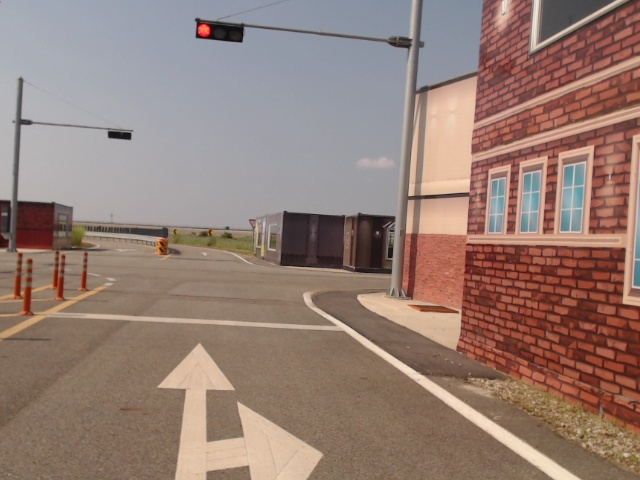red_3: (196, 19, 244, 43)
